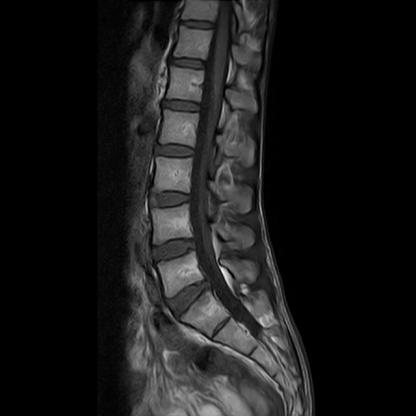Degenerative Disc Diseaserotation: (167, 282, 216, 317)
Disc Bulgerotation: (167, 283, 216, 318)
